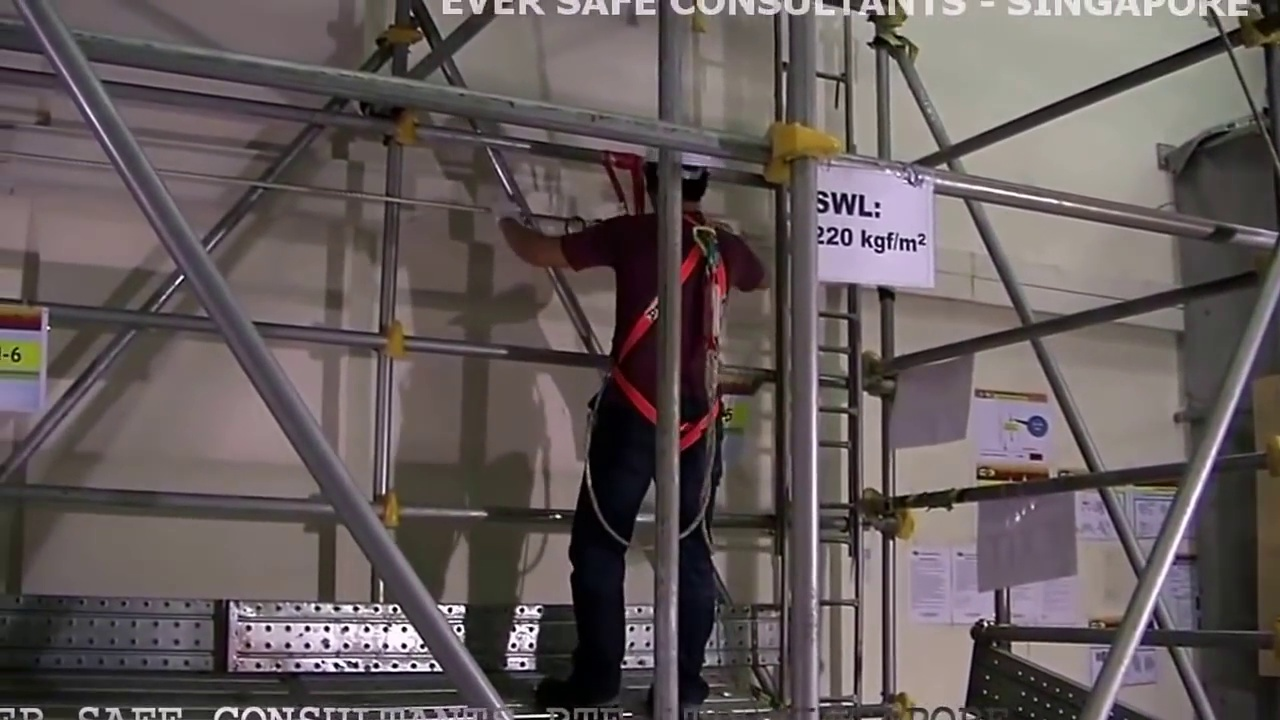harness: (624, 233, 727, 441)
helmet: (648, 144, 717, 168)
